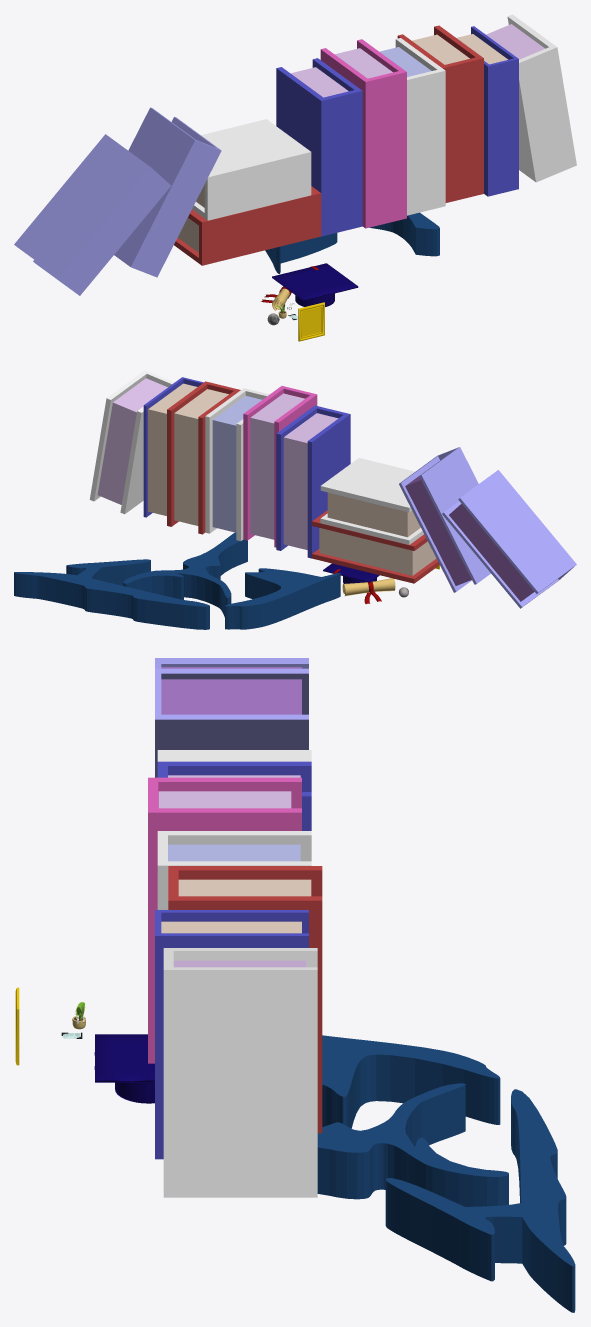
The model's file is primary.glb.
3 views of the same model, one above another, from view 1: azimuth 30°, elevation 25°; view 2: azimuth 150°, elevation 25°; view 3: azimuth 270°, elevation 25° (orthographic). The views are drawn at different scales.
Parts seen in each view (by area): view 1: Rectangle019, Rectangle001, Rectangle012, Rectangle018, Rectangle004, Rectangle013, Rectangle007, Rectangle009, Rectangle005, Rectangle015, LYH_Mesh_0, Edu_Object_4 (+8 smaller); view 2: LYH_Mesh_0, Rectangle019, Rectangle001, Rectangle018, Rectangle012, Rectangle003, Rectangle002, Rectangle008, Rectangle014, Rectangle006, Rectangle010, Rectangle013 (+11 smaller); view 3: LYH_Mesh_0, Rectangle013, Rectangle004, Rectangle018, Rectangle007, Rectangle015, Rectangle017, Rectangle005, Edu_Object_4, Rectangle001, Rectangle003, Rectangle008 (+5 smaller).
Part boxes in pixels (box(x1,y1,x2,y2)): Rectangle019: box(14, 134, 171, 295); Rectangle001: box(276, 58, 362, 236); Rectangle012: box(192, 119, 311, 220); Rectangle018: box(114, 107, 221, 277); Rectangle004: box(320, 39, 406, 228); Rectangle013: box(507, 14, 576, 182); Rectangle007: box(397, 25, 483, 202); Rectangle009: box(174, 186, 321, 265); Rectangle005: box(395, 38, 445, 215); Rectangle015: box(471, 26, 518, 196); LYH_Mesh_0: box(265, 212, 439, 273); Edu_Object_4: box(272, 263, 358, 306); LYH_Mesh_0: box(14, 532, 340, 629); Rectangle019: box(442, 470, 576, 608); Rectangle001: box(276, 405, 350, 558); Rectangle018: box(399, 447, 490, 592); Rectangle012: box(320, 458, 423, 544); Rectangle003: box(250, 393, 304, 539); Rectangle002: box(283, 413, 338, 549); Rectangle008: box(174, 389, 228, 525); Rectangle014: box(97, 378, 167, 504); Rectangle006: box(212, 396, 262, 532); Rectangle010: box(319, 528, 436, 575); Rectangle013: box(89, 370, 174, 514); LYH_Mesh_0: box(317, 1035, 575, 1312); Rectangle013: box(163, 948, 317, 1197); Rectangle004: box(148, 777, 301, 1063); Rectangle018: box(155, 668, 308, 777); Rectangle007: box(168, 866, 322, 1133); Rectangle015: box(155, 910, 308, 1159); Rectangle017: box(161, 679, 301, 714); Rectangle005: box(157, 831, 311, 909); Edu_Object_4: box(94, 1034, 154, 1103); Rectangle001: box(157, 761, 311, 830); Rectangle003: box(158, 791, 291, 808); Rectangle008: box(178, 879, 311, 896).
Bounding box in the file's own units: 103 × 39.81 × 54.47.
25 materials, 4 textured.
